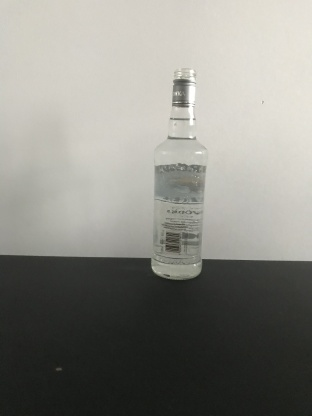nakretka: (170, 65, 197, 109)
